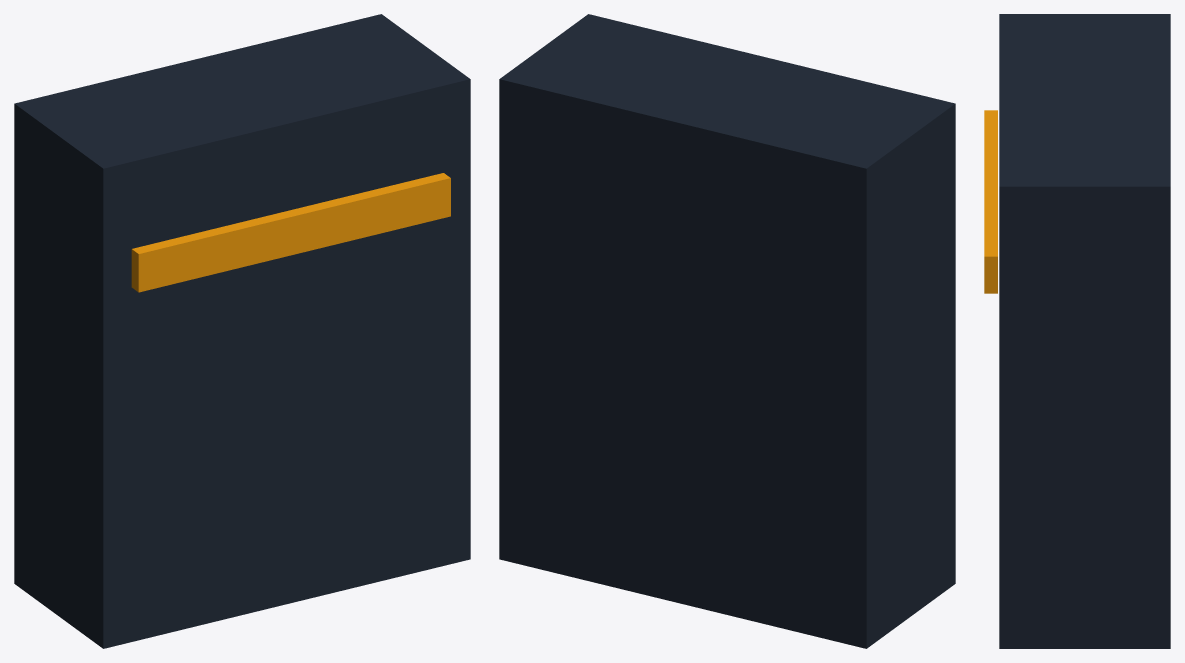
The model's file is weidmuller-pv-next-combiner.glb.
3 renders of one model, left to right at view 1: azimuth 30°, elevation 25°; view 2: azimuth 150°, elevation 25°; view 3: azimuth 270°, elevation 25°, orthographic. The views are drawn at different scales.
Bounding box in the file's own units: 1 × 1.25 × 0.4568.
